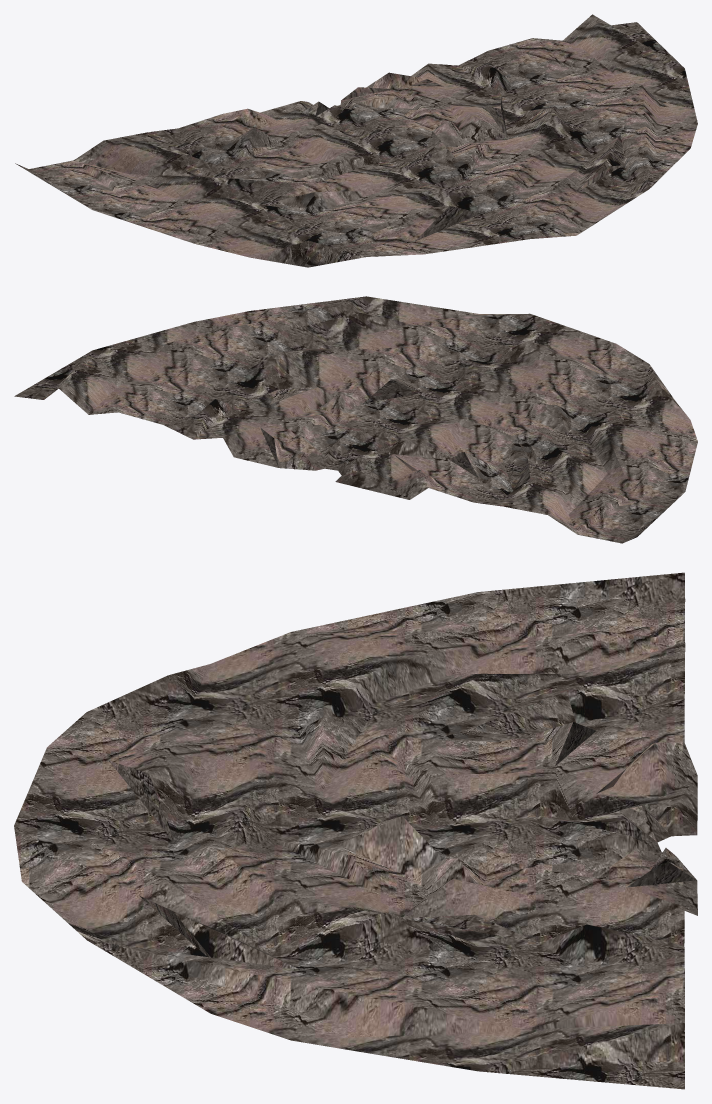
The picture shows the model from 3 angles, top to bottom: view 1: azimuth 30°, elevation 25°; view 2: azimuth 150°, elevation 25°; view 3: azimuth 270°, elevation 25°; orthographic projection. The views are drawn at different scales.
Visible parts, largest first — view 1: Plane02; view 2: Plane02; view 3: Plane02.
Boxes of the visible parts, left/top/right/bottom form: Plane02: left=15, top=14, right=697, bottom=267; Plane02: left=14, top=296, right=697, bottom=543; Plane02: left=14, top=572, right=697, bottom=1089.
Size of the model in its own units: 2296 by 108 by 1331.
